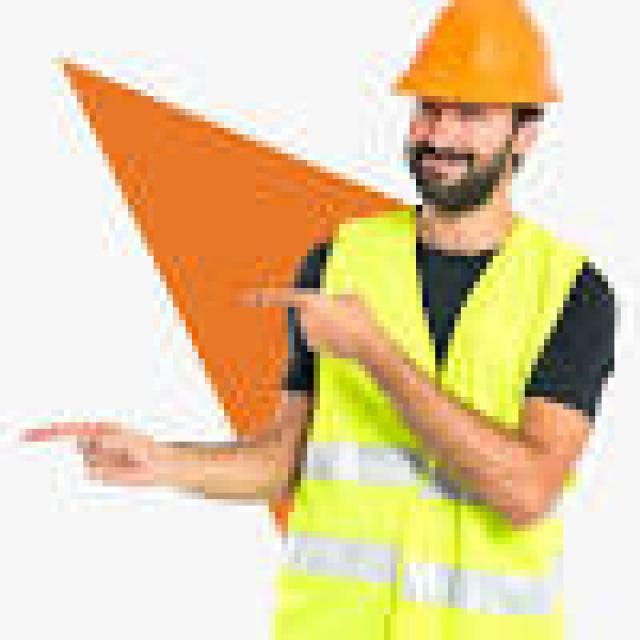reflective_jacket: (275, 198, 601, 595)
safety_helmet: (384, 0, 569, 115)
